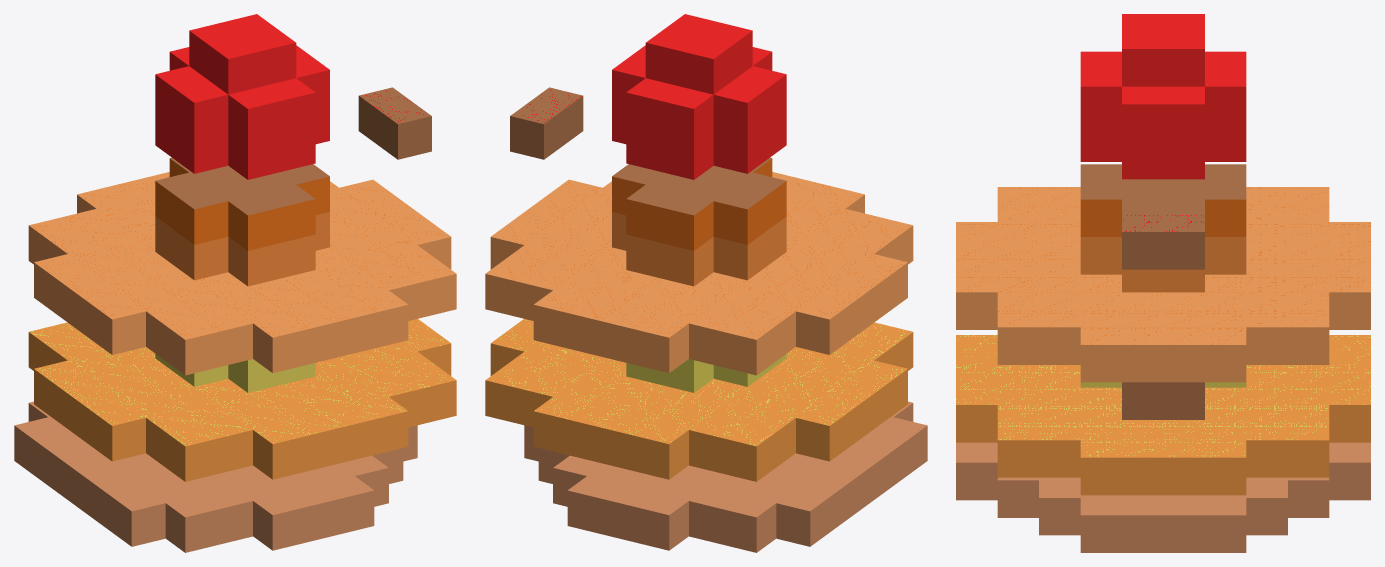
File: CBRA_fire0.obj
The picture shows the model from 3 angles, left to right: view 1: azimuth 30°, elevation 25°; view 2: azimuth 150°, elevation 25°; view 3: azimuth 270°, elevation 25°; orthographic projection. The views are drawn at different scales.
Parts seen in each view (by area): view 1: TorchFlame; view 2: TorchFlame; view 3: TorchFlame.
Part boxes in pixels (<box>): TorchFlame: <box>14,14,456,552</box>; TorchFlame: <box>485,14,927,552</box>; TorchFlame: <box>956,14,1370,552</box>.
Size of the model in its own units: 0.8333 by 1 by 0.8333.
1 material, 1 textured.
